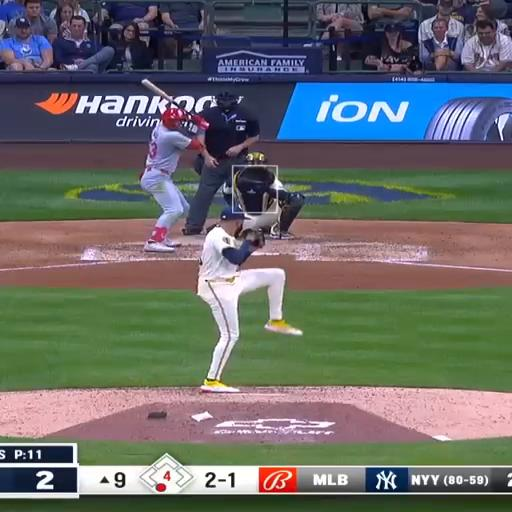bat: (141, 79, 191, 115)
